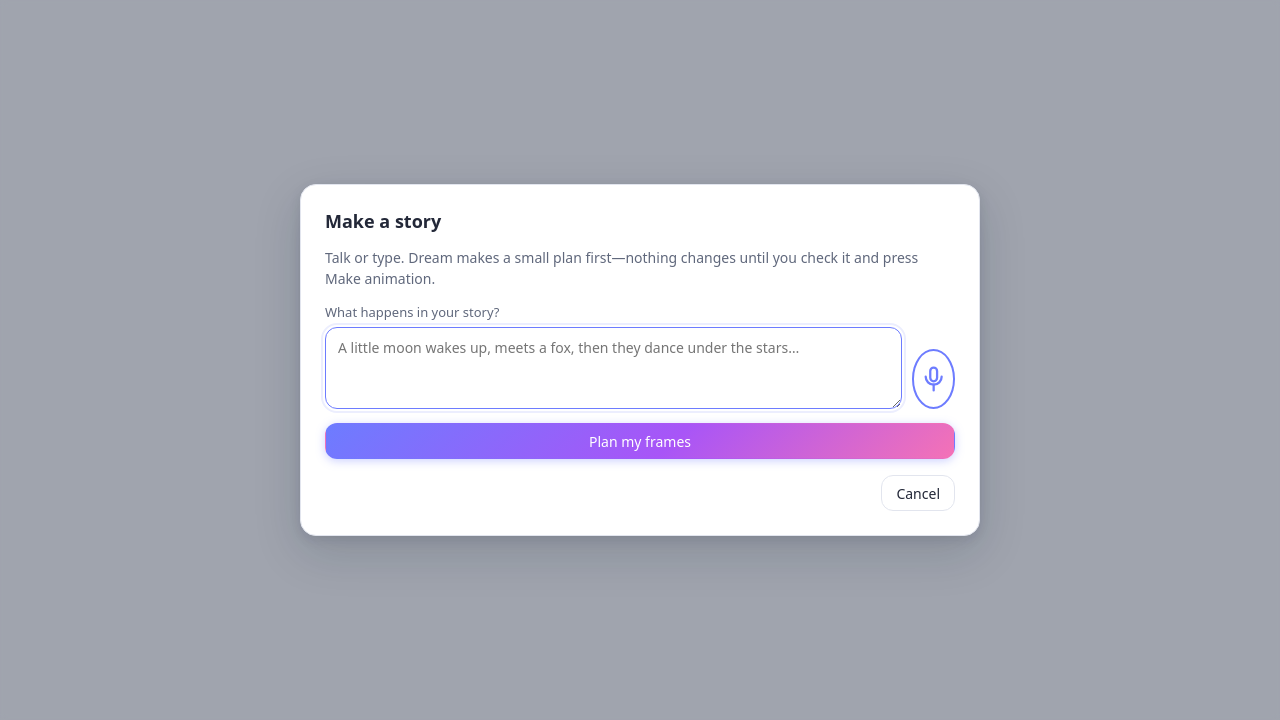
Scenario: StoryboardDialog › plans immediately after Little Dreamer dictation without changing the document
Step 1. Click the button named "Say it" → click(933, 379), box [912,349,955,409]
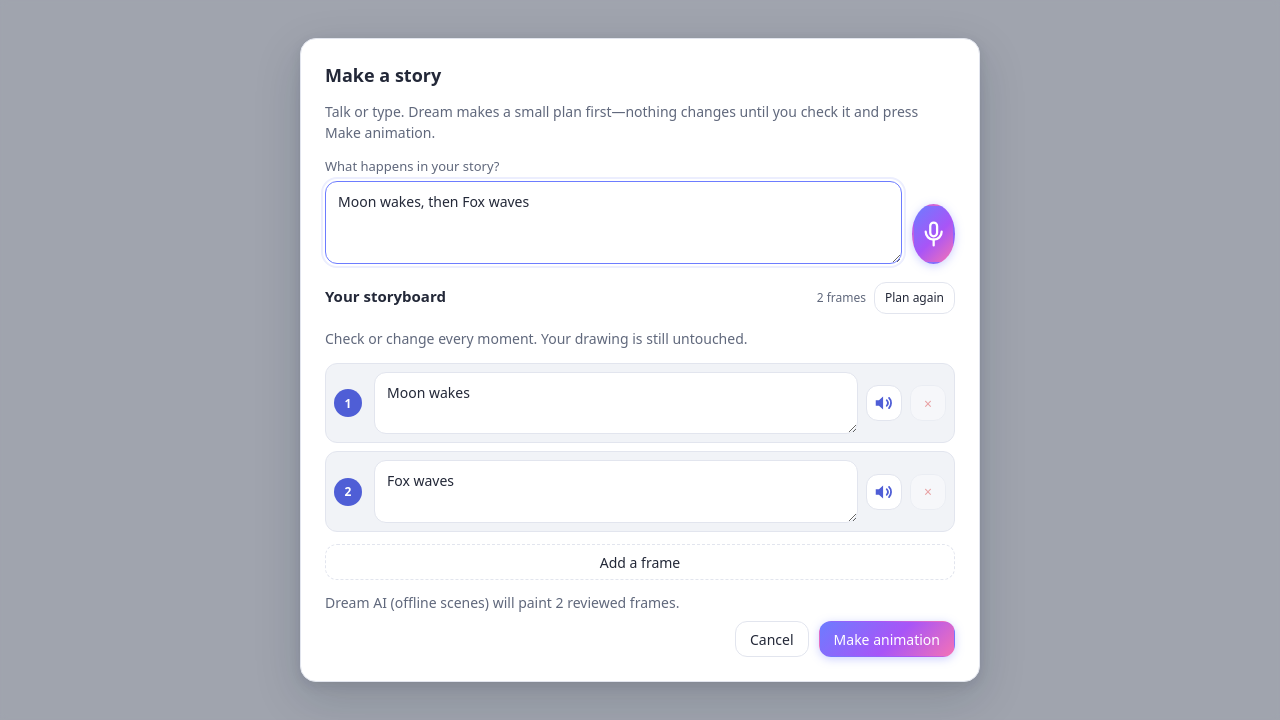
Result: the heading "Your storyboard" is shown at [325,286,446,306]
Result: the text box named "Frame 1" holds "Moon wakes" at [374,372,858,434]
Result: the text box named "Frame 2" holds "Fox waves" at [374,460,858,523]
